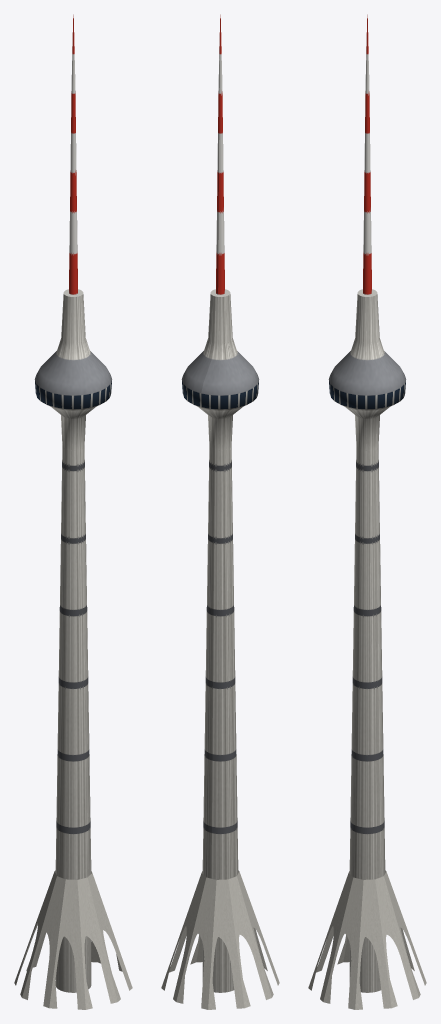
Rendered from tv_tower.glb.
3 renders of one model, left to right at view 1: azimuth 30°, elevation 25°; view 2: azimuth 150°, elevation 25°; view 3: azimuth 330°, elevation 25°, orthographic.
Parts seen in each view (by area): view 1: tv_tower; view 2: tv_tower; view 3: tv_tower.
Boxes of the visible parts, x1=… form: tv_tower: x1=14, y1=14, x2=132, y2=1009; tv_tower: x1=161, y1=14, x2=279, y2=1009; tv_tower: x1=308, y1=14, x2=426, y2=1009.
Bounding box in the file's own units: 60 × 540 × 57.06.
2 materials, 2 textured.
